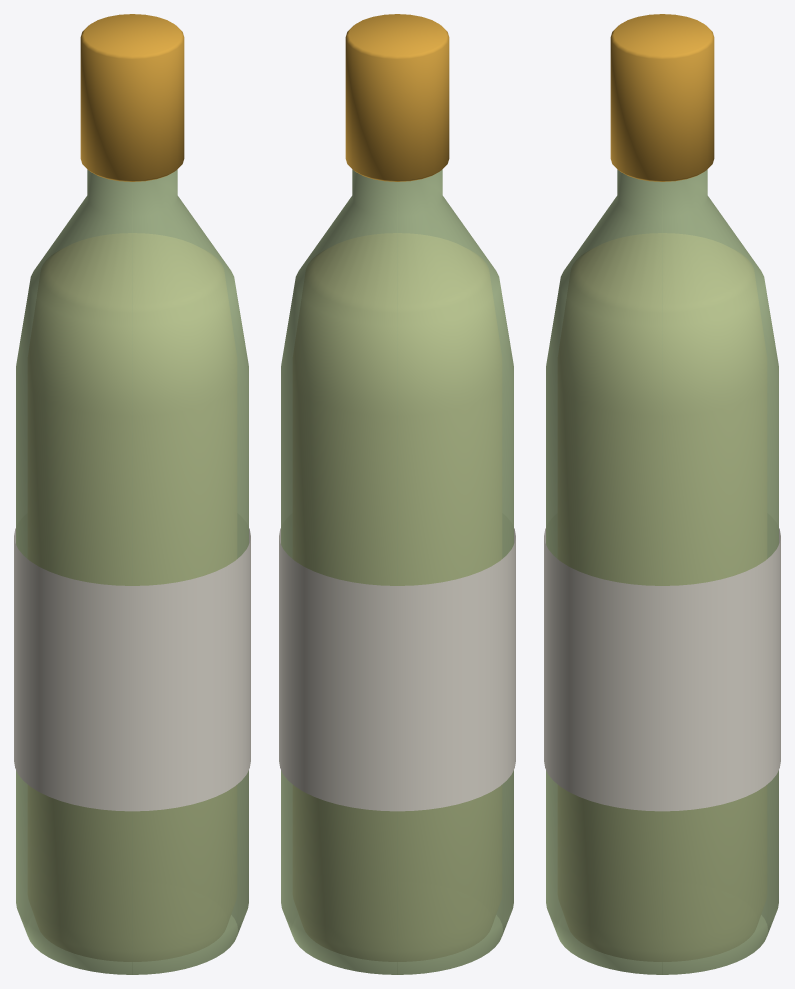
Rendered from vinho_branco.glb.
3 views of the same model, side by side, from view 1: azimuth 30°, elevation 25°; view 2: azimuth 150°, elevation 25°; view 3: azimuth 270°, elevation 25° (orthographic).
Visible parts, largest first — view 1: vinho_branco; view 2: vinho_branco; view 3: vinho_branco.
Boxes of the visible parts, bbox=[...] form: vinho_branco: bbox=[14, 14, 250, 974]; vinho_branco: bbox=[279, 14, 515, 974]; vinho_branco: bbox=[544, 14, 780, 974].
Bounding box in the file's own units: 0.0762 × 0.318 × 0.0762.
